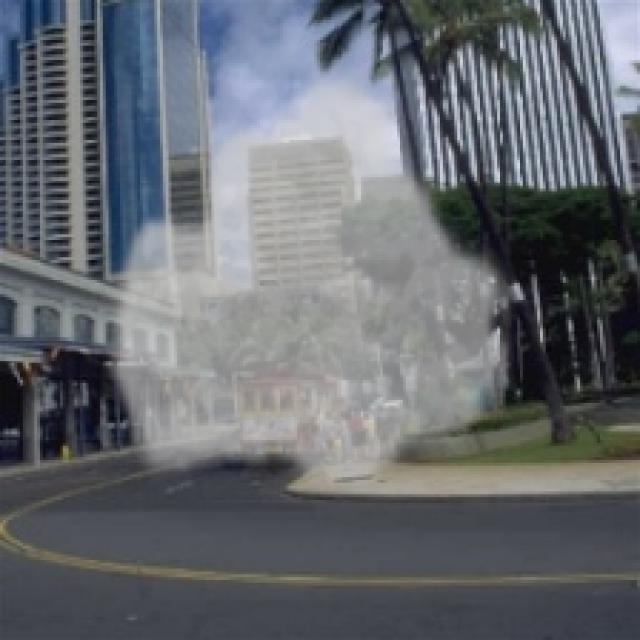Smoke: (100, 66, 523, 492)
